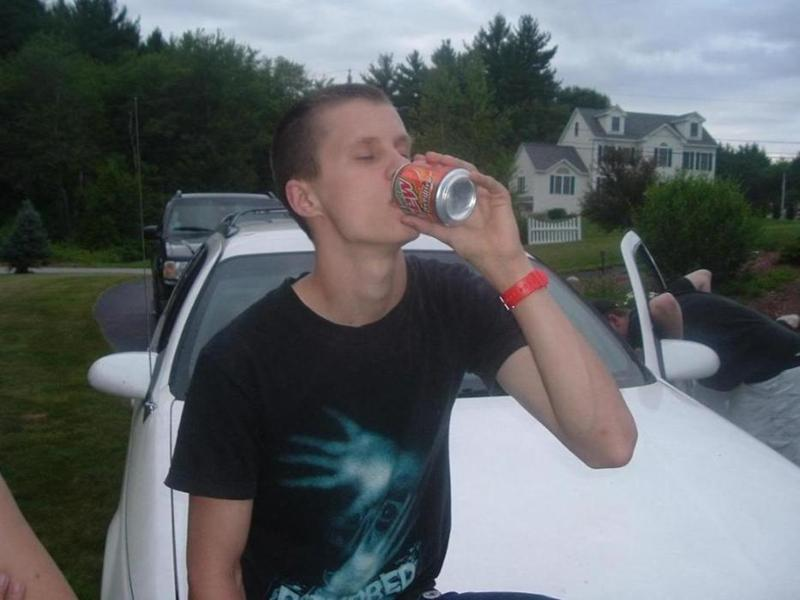person: (165, 81, 641, 600)
